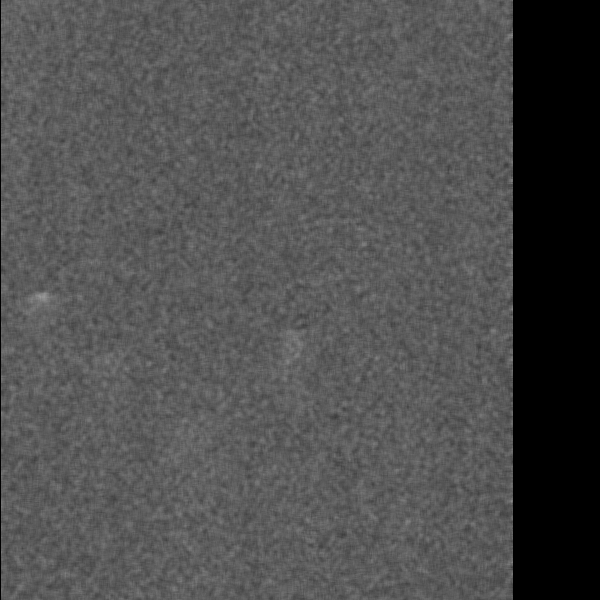spark: (275, 327, 297, 383), (29, 287, 56, 311)
